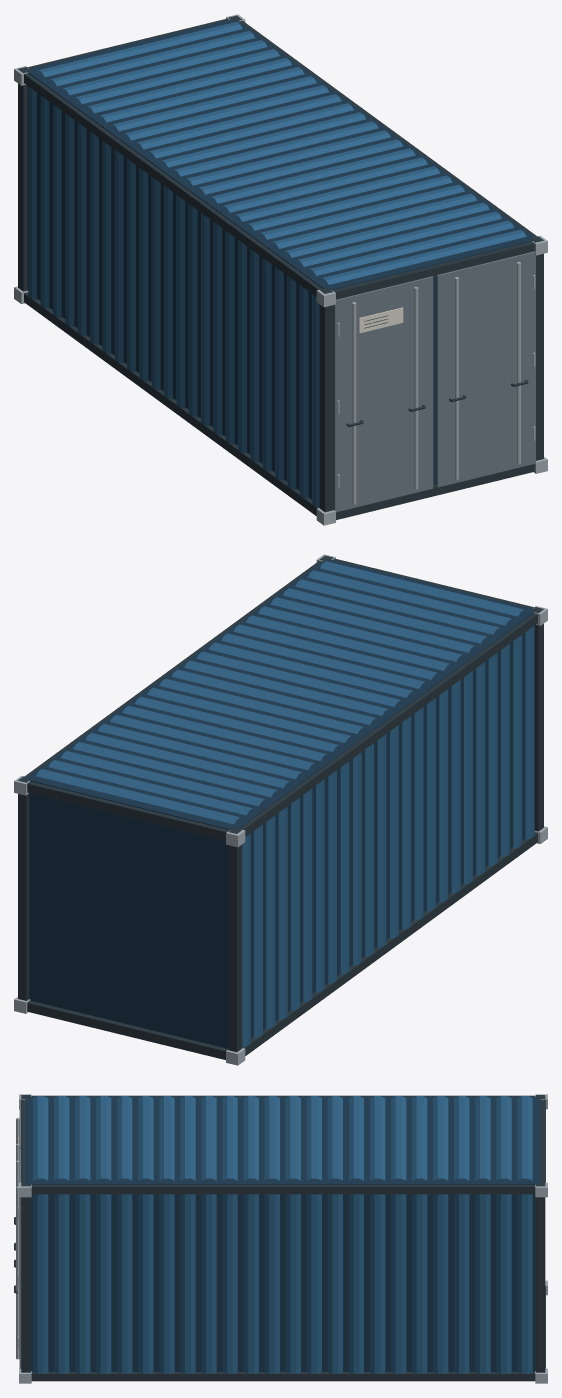
The model's file is b14_twenty_foot_freight_container.glb.
The picture shows the model from 3 angles, top to bottom: view 1: azimuth 30°, elevation 25°; view 2: azimuth 150°, elevation 25°; view 3: azimuth 270°, elevation 25°; orthographic projection. The views are drawn at different scales.
Visible parts, largest first — view 1: b14_twenty_foot_freight_container; view 2: b14_twenty_foot_freight_container; view 3: b14_twenty_foot_freight_container.
Part boxes in pixels (bbox=[...]): b14_twenty_foot_freight_container: bbox=[14, 14, 547, 525]; b14_twenty_foot_freight_container: bbox=[14, 554, 547, 1065]; b14_twenty_foot_freight_container: bbox=[14, 1094, 547, 1383].
Size of the model in its own units: 2.6 by 2.6 by 6.29.
